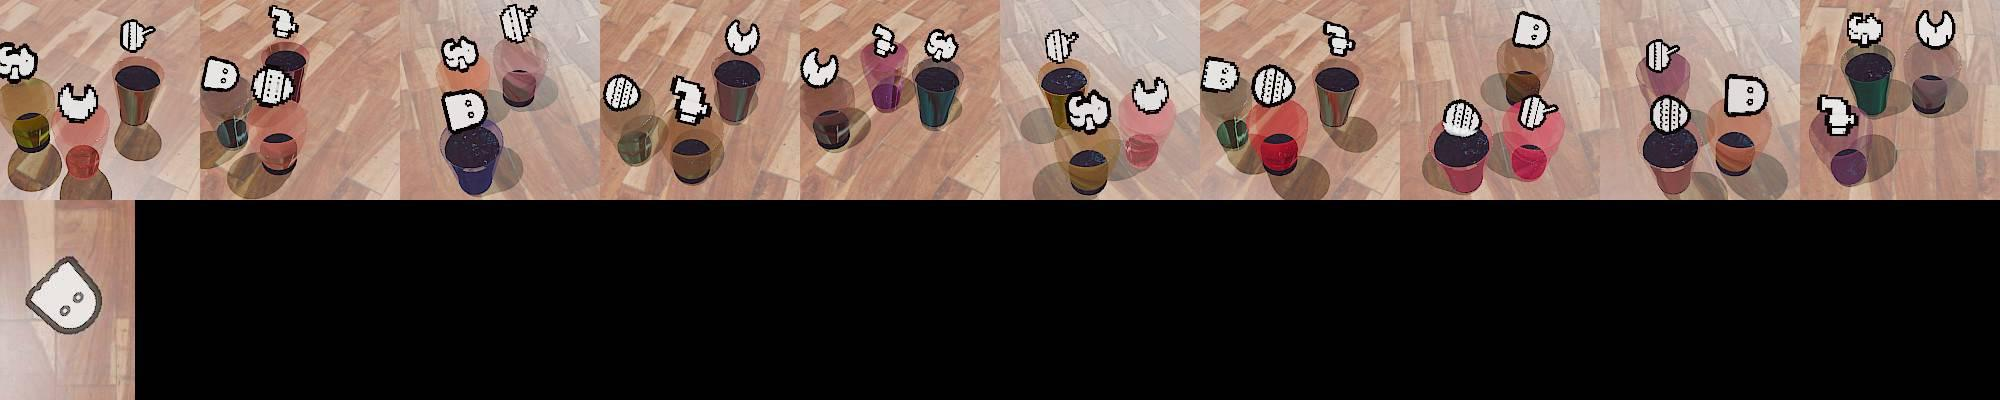icon: (26, 255, 106, 336), (249, 64, 298, 108), (669, 74, 711, 124), (440, 88, 488, 131), (1066, 88, 1112, 132), (1724, 73, 1768, 117), (56, 82, 100, 123), (1649, 93, 1691, 134), (1915, 8, 1956, 49), (1817, 94, 1857, 136), (499, 2, 538, 45), (801, 48, 841, 89), (1441, 98, 1483, 137), (0, 41, 38, 84), (1132, 75, 1171, 115), (439, 35, 480, 73), (1512, 10, 1550, 50), (1202, 56, 1240, 95), (201, 55, 241, 92), (1517, 93, 1558, 129), (603, 72, 641, 110), (1256, 66, 1293, 105), (1845, 11, 1883, 48), (725, 18, 761, 56), (119, 18, 156, 53), (1646, 39, 1681, 74), (924, 28, 959, 62), (1045, 27, 1078, 63), (1324, 20, 1356, 57), (267, 5, 299, 40), (871, 22, 898, 58)
